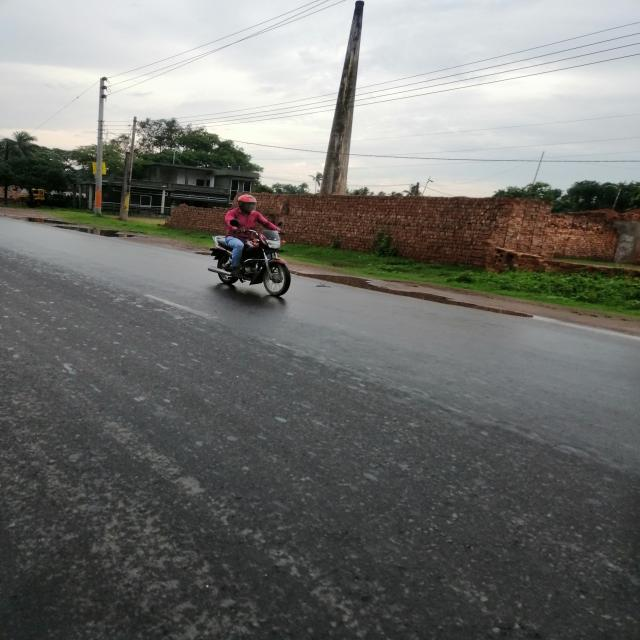Motorbike: (204, 221, 302, 300)
